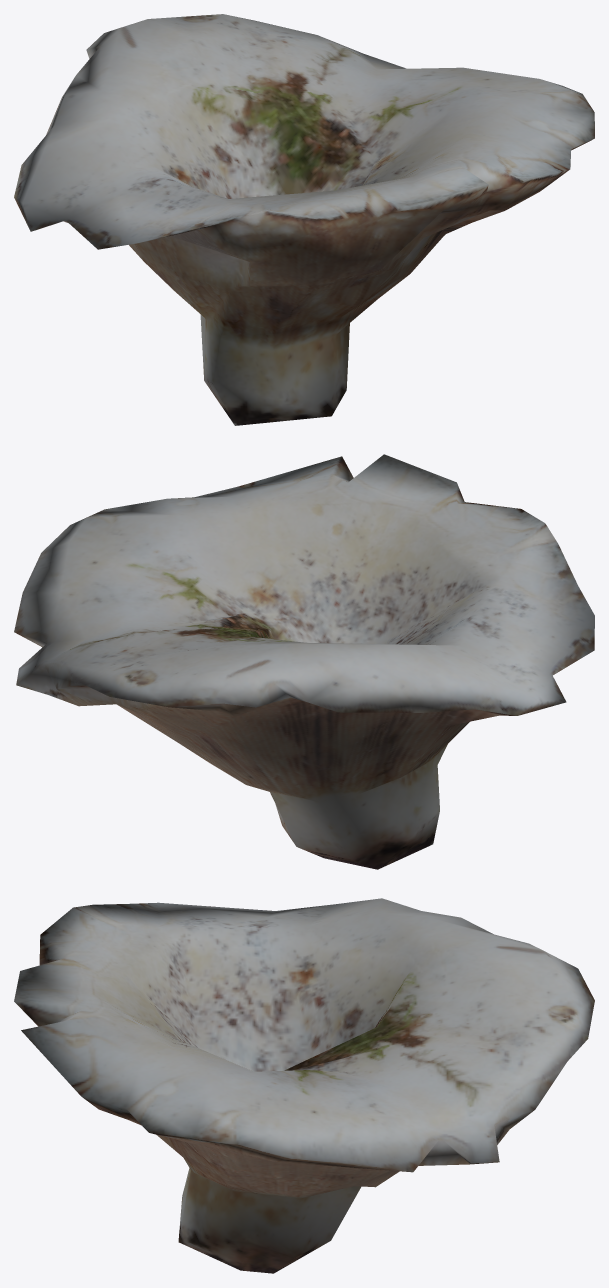
Rendered from Lactarius_pergamenus_02.FBX.
3 views of the same model, one above another, from view 1: azimuth 30°, elevation 25°; view 2: azimuth 150°, elevation 25°; view 3: azimuth 270°, elevation 25° (orthographic). The views are drawn at different scales.
Parts seen in each view (by area): view 1: Lactarius_pergamenus_02_LOD0; view 2: Lactarius_pergamenus_02_LOD0; view 3: Lactarius_pergamenus_02_LOD0.
Boxes of the visible parts, box(x1,y1,x2,y2) form: Lactarius_pergamenus_02_LOD0: box(14, 14, 594, 425); Lactarius_pergamenus_02_LOD0: box(14, 454, 594, 869); Lactarius_pergamenus_02_LOD0: box(14, 898, 594, 1273).
Size of what is drawn, in the model's own units: 216 by 116 by 200.
